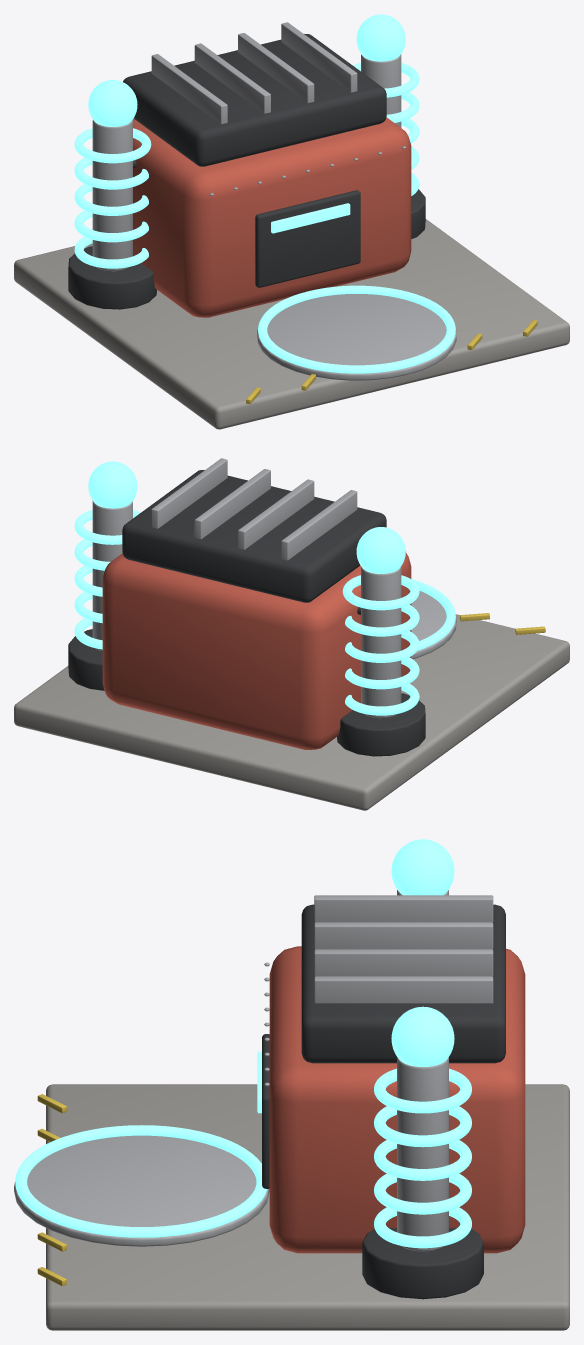
File: building_power.glb
3 views of the same model, one above another, from view 1: azimuth 30°, elevation 25°; view 2: azimuth 150°, elevation 25°; view 3: azimuth 270°, elevation 25° (orthographic). The views are drawn at different scales.
Parts seen in each view (by area): view 1: Cube, Cube.001, Cube.002, Cylinder.006, Cube.007, Cylinder.004, Torus.010, Cylinder.003, Sphere.009, Sphere.010, Cube.006, Cube.004 (+11 smaller); view 2: Cube.001, Cube, Cube.002, Cylinder.004, Cylinder.003, Cylinder.001, Sphere.009, Sphere.010, Cube.004, Cube.006, Cube.003, Cube.005 (+13 smaller); view 3: Cube, Cube.001, Cylinder.006, Cube.002, Cylinder.001, Torus.010, Cylinder, Cube.003, Cube.004, Cube.005, Cube.006, Sphere.009 (+7 smaller).
Part boxes in pixels (box(x1,y1,x2,y2)): Cube: box(14, 219, 569, 429); Cube.001: box(133, 117, 411, 317); Cube.002: box(123, 34, 386, 166); Cylinder.006: box(257, 294, 456, 380); Cube.007: box(255, 190, 360, 287); Cylinder.004: box(92, 119, 132, 271); Torus.010: box(258, 285, 455, 373); Cylinder.003: box(68, 246, 156, 309); Sphere.009: box(356, 14, 405, 61); Sphere.010: box(88, 80, 137, 126); Cube.006: box(281, 22, 357, 92); Cube.004: box(194, 43, 270, 113); Cube.001: box(102, 553, 411, 749); Cube: box(14, 614, 569, 810); Cube.002: box(122, 470, 386, 602); Cylinder.004: box(361, 566, 401, 718); Cylinder.003: box(337, 693, 425, 756); Cylinder.001: box(92, 501, 132, 651); Sphere.009: box(88, 461, 137, 508); Sphere.010: box(356, 527, 405, 573); Cube.004: box(238, 479, 314, 549); Cube.006: box(151, 458, 227, 528); Cube.003: box(281, 490, 357, 560); Cube.005: box(194, 469, 270, 538); Cube: box(46, 1084, 569, 1330); Cube.001: box(269, 946, 525, 1253); Cylinder.006: box(14, 1135, 269, 1246); Cube.002: box(301, 904, 505, 1063); Cylinder.001: box(397, 1057, 448, 1251); Torus.010: box(15, 1125, 267, 1237); Cylinder: box(362, 1228, 483, 1299); Cube.003: box(314, 895, 493, 922); Cube.004: box(314, 922, 493, 949); Cube.005: box(314, 949, 493, 976); Cube.006: box(314, 976, 493, 1003); Sphere.009: box(391, 1006, 454, 1066).
Size of the model in its own units: 4.1 by 2.56 by 4.35.
